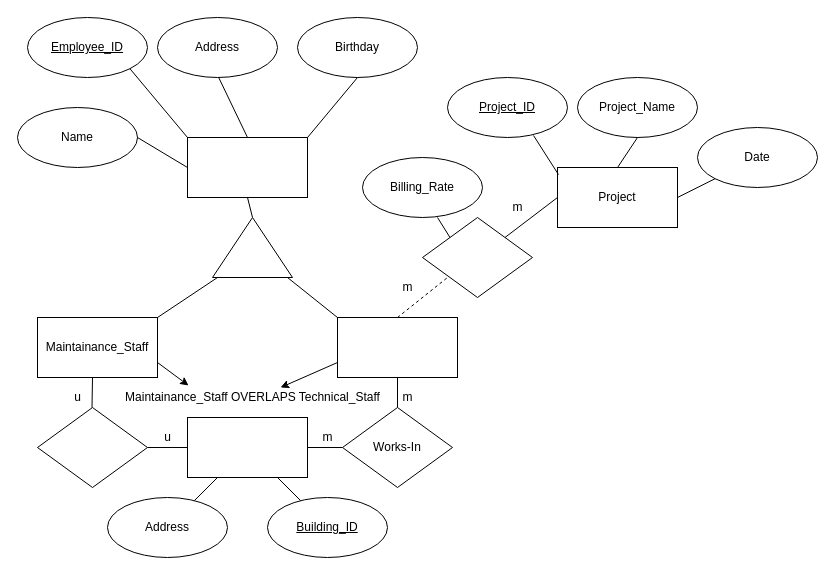
The diagram is 835 pixels wide and 575 high, and some of its shapes have lost their labels. Each missing label, with the centre of its shape:
"Assign" goes at pixel 477 257.
"Building" goes at pixel 247 447.
"Employees" goes at pixel 247 167.
"ISA" goes at pixel 252 247.
"Manages" goes at pixel 92 447.
"Technical_Staff" goes at pixel 397 347.
